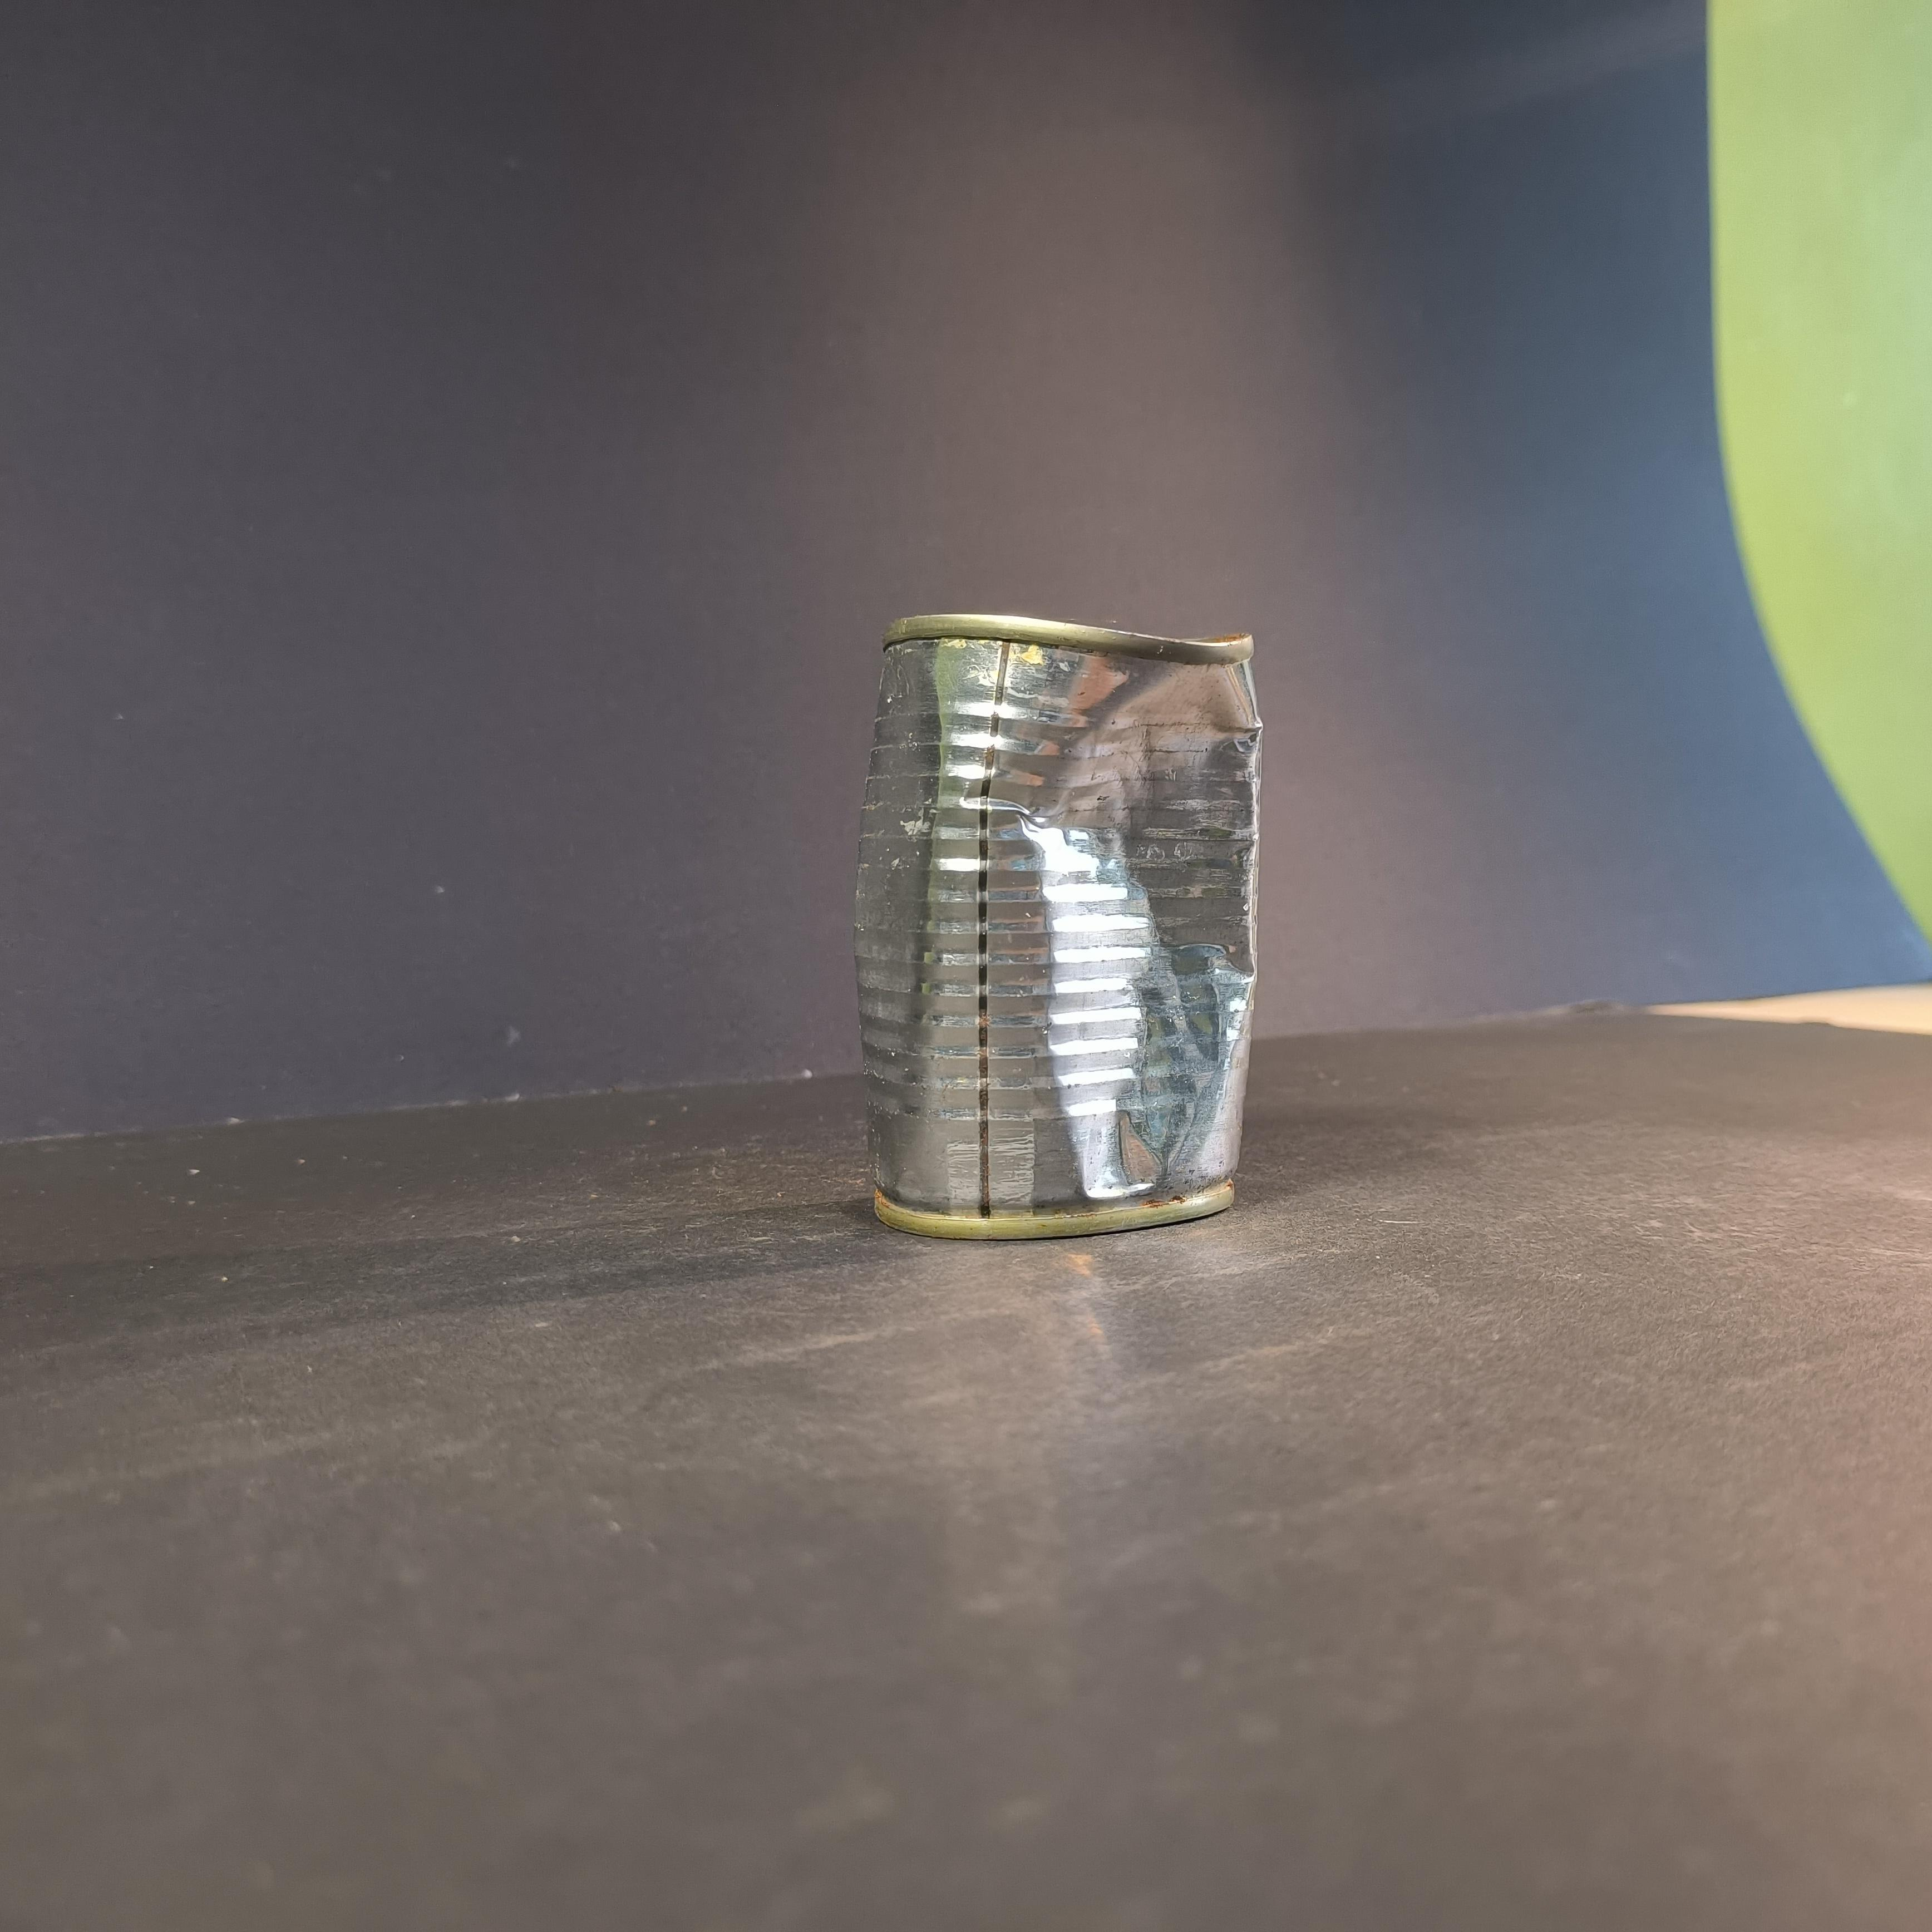Dented: (835, 573, 1267, 1249)
